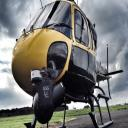helicopter: (12, 4, 125, 128)
